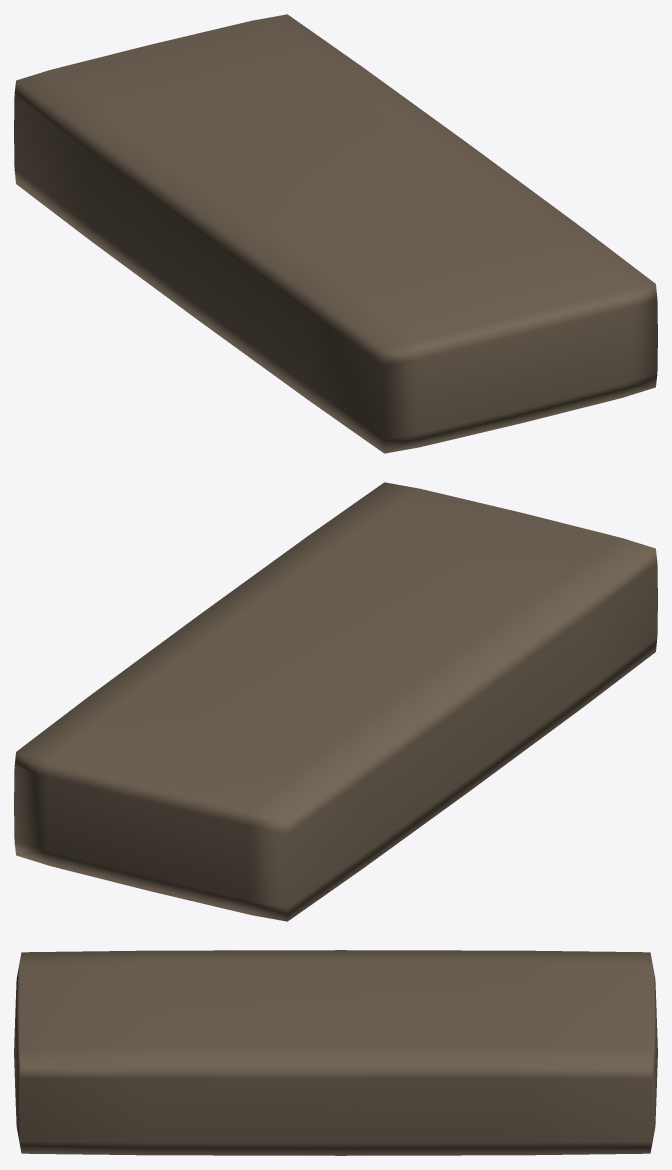
File: wall_shelf01.fbx
3 renders of one model, top to bottom at view 1: azimuth 30°, elevation 25°; view 2: azimuth 150°, elevation 25°; view 3: azimuth 270°, elevation 25°, orthographic. The views are drawn at different scales.
Visible parts, largest first — view 1: wall_shelf01; view 2: wall_shelf01; view 3: wall_shelf01.
Boxes of the visible parts, left/top/right/bottom form: wall_shelf01: left=14, top=14, right=657, bottom=453; wall_shelf01: left=14, top=482, right=657, bottom=921; wall_shelf01: left=14, top=950, right=657, bottom=1155.
Bounding box in the file's own units: 45.53 × 18.6 × 106.
